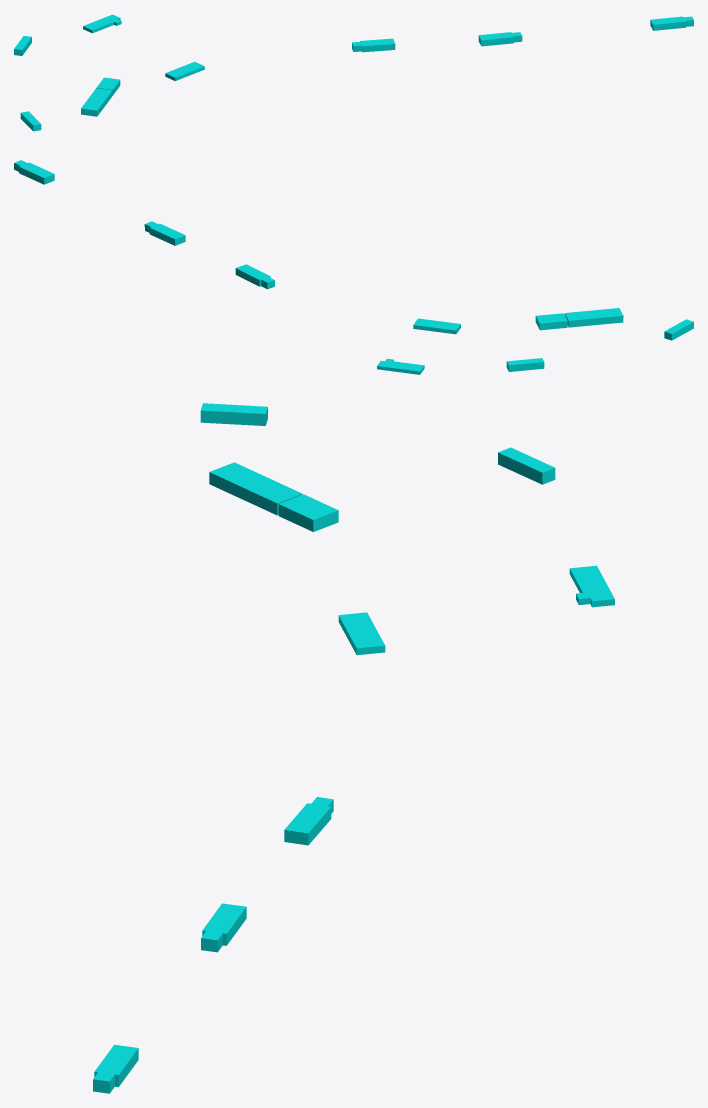
The model's file is Agua.glb.
3 views of the same model, one above another, from view 1: azimuth 30°, elevation 25°; view 2: azimuth 150°, elevation 25°; view 3: azimuth 270°, elevation 25° (orthographic). The views are drawn at different scales.
Parts seen in each view (by area): view 1: Pools; view 2: Pools; view 3: Pools.
Part boxes in pixels (box(x1,y1,x2,y2)): Pools: box(14, 14, 693, 131); Pools: box(14, 160, 693, 374); Pools: box(93, 403, 614, 1093).
Bounding box in the file's own units: 220 × 13.63 × 78.22.
